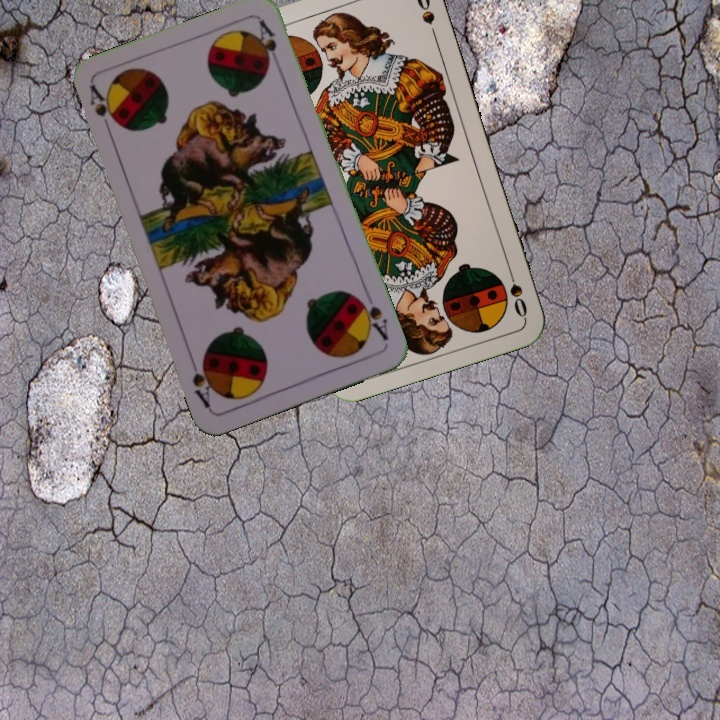SA: (353, 288, 392, 343), (85, 81, 118, 139)
SO: (503, 262, 530, 321)
